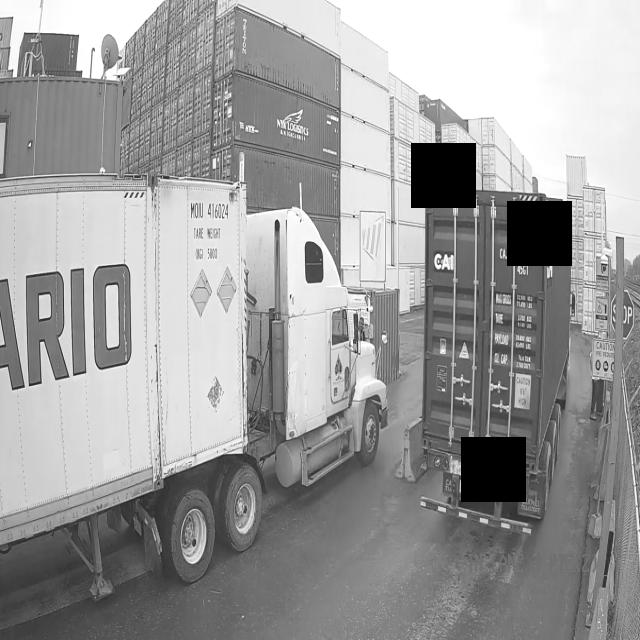container_company_logo: (434, 244, 456, 278)
container_number: (494, 237, 544, 280)
container_side_no: (185, 192, 233, 224)
truck_with_container: (0, 174, 388, 599), (412, 189, 570, 534)
